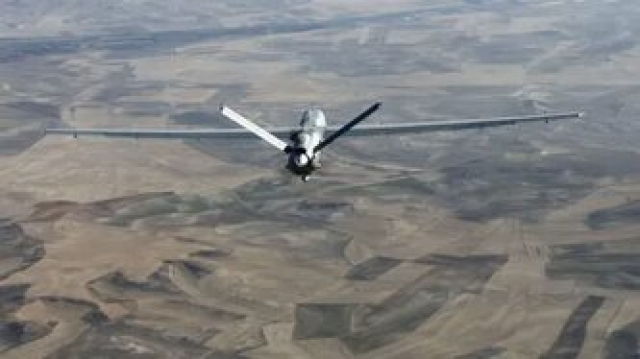military drone: (44, 101, 583, 183)
